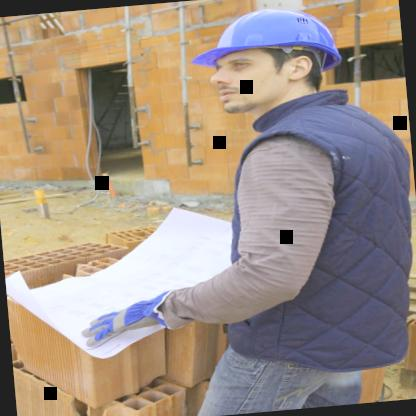helmet: (185, 0, 360, 126)
